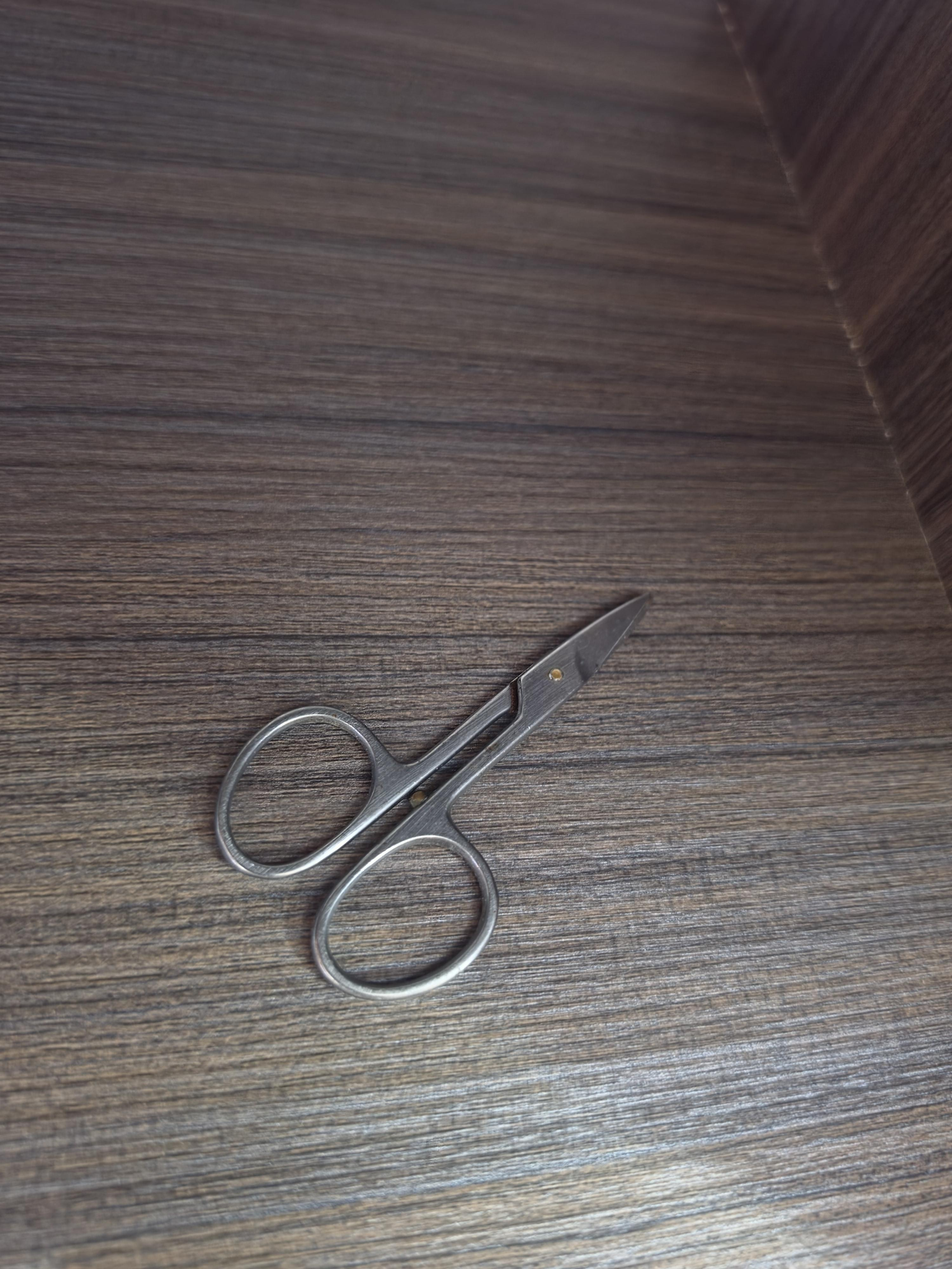scissors: (213, 589, 653, 1004)
